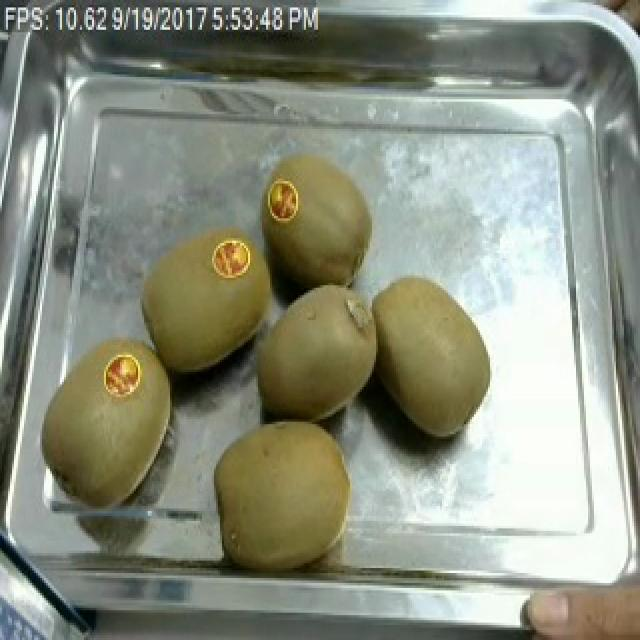Fruit: (26, 338, 184, 518), (202, 407, 364, 575), (368, 270, 502, 447), (132, 221, 278, 382), (236, 273, 386, 429), (260, 144, 382, 295), (516, 558, 640, 640), (264, 171, 304, 226)
